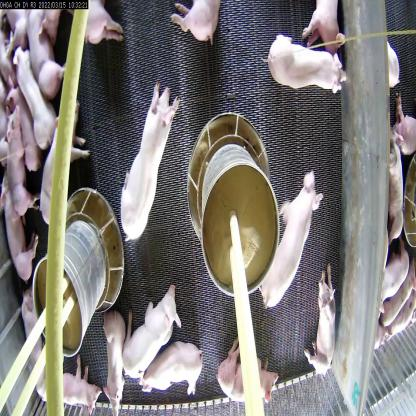Pig: (250, 161, 323, 308), (114, 85, 177, 245), (30, 89, 86, 244), (263, 28, 349, 98), (16, 42, 62, 167), (134, 342, 211, 412), (0, 166, 41, 292), (122, 278, 172, 381), (222, 337, 286, 415), (305, 265, 345, 380), (38, 352, 109, 415), (22, 10, 68, 102), (161, 0, 225, 66), (0, 113, 33, 233), (92, 301, 130, 400), (1, 79, 36, 175), (385, 140, 412, 264), (19, 272, 47, 384), (70, 0, 113, 49)
